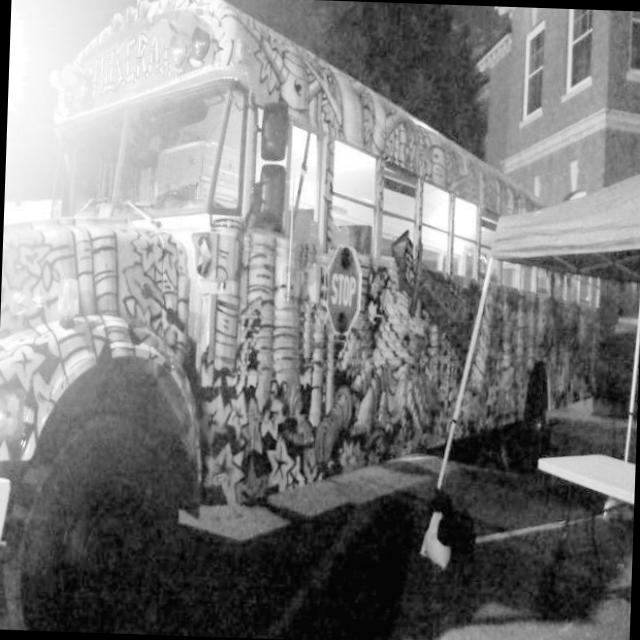Bus: (31, 35, 640, 640)
